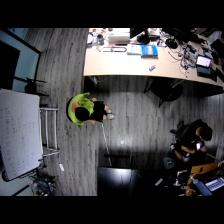normal: (64, 90, 117, 128), (166, 117, 211, 159)
